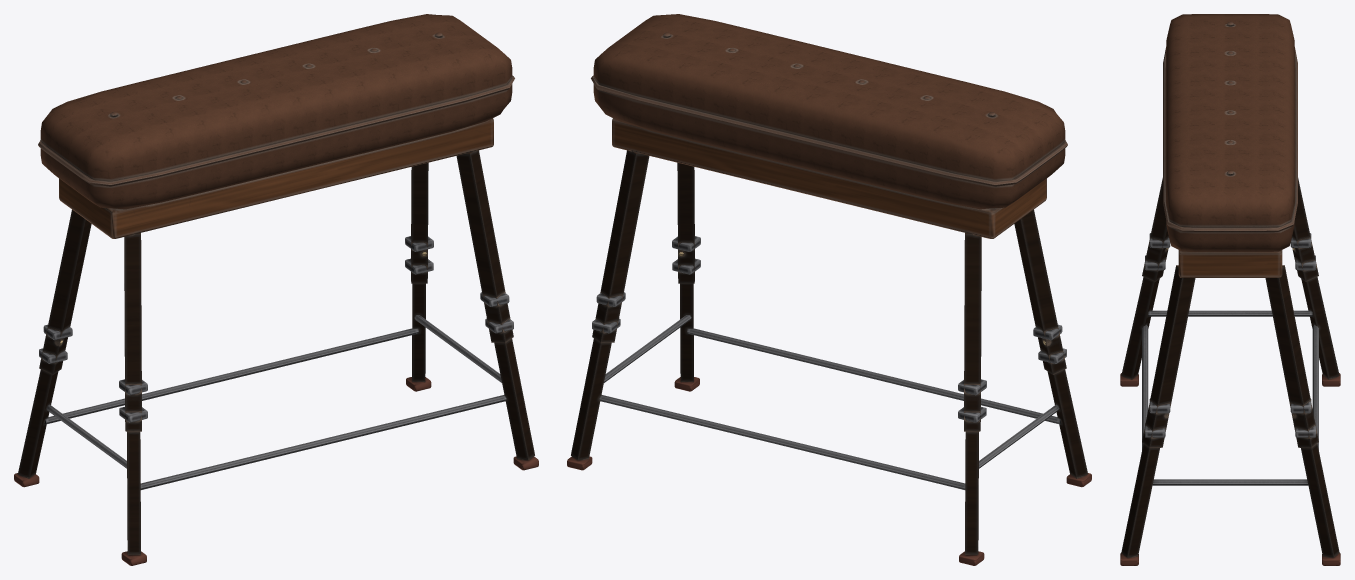
Rendered from VaultingHorse.fbx.
3 views of the same model, side by side, from view 1: azimuth 30°, elevation 25°; view 2: azimuth 150°, elevation 25°; view 3: azimuth 270°, elevation 25° (orthographic). The views are drawn at different scales.
Visible parts, largest first — view 1: VaultingHorse; view 2: VaultingHorse; view 3: VaultingHorse.
Boxes of the visible parts, x1,y1,x2,y2 form: VaultingHorse: [14, 14, 538, 565]; VaultingHorse: [567, 14, 1091, 565]; VaultingHorse: [1120, 14, 1340, 565].
Size of the model in its own units: 447 by 401 by 213.
